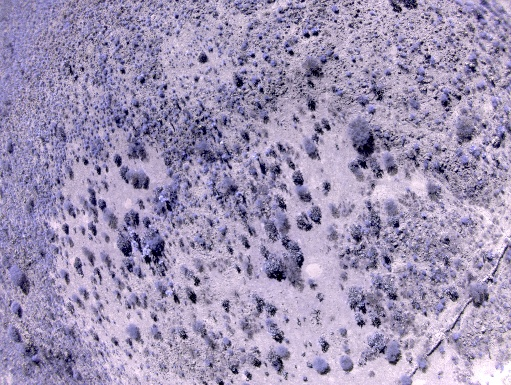agave: (97, 61, 113, 74), (283, 43, 293, 58), (141, 118, 149, 136), (330, 6, 339, 16), (452, 76, 461, 86), (239, 53, 245, 67), (135, 26, 144, 35), (116, 56, 125, 65), (476, 85, 486, 93), (481, 154, 489, 164), (276, 15, 283, 26), (138, 78, 147, 86), (436, 15, 444, 23), (396, 36, 405, 43), (399, 53, 408, 60), (300, 31, 310, 37), (318, 56, 326, 63), (383, 70, 391, 77), (412, 146, 420, 153), (301, 376, 308, 384), (206, 47, 214, 54), (132, 41, 139, 49), (265, 96, 271, 105), (132, 101, 139, 108), (419, 270, 427, 276), (433, 142, 439, 150), (277, 8, 285, 14), (270, 60, 276, 68), (480, 31, 485, 40), (387, 39, 392, 48), (157, 92, 166, 97), (249, 52, 255, 59), (309, 30, 317, 35), (430, 58, 435, 66), (256, 35, 262, 41), (253, 61, 257, 70), (159, 85, 168, 89), (345, 73, 352, 78), (412, 256, 417, 262), (397, 46, 402, 52), (196, 20, 201, 26), (240, 87, 246, 92), (333, 55, 338, 60), (436, 44, 441, 49), (409, 25, 414, 30), (351, 58, 356, 63), (173, 15, 178, 20), (218, 25, 222, 30)
